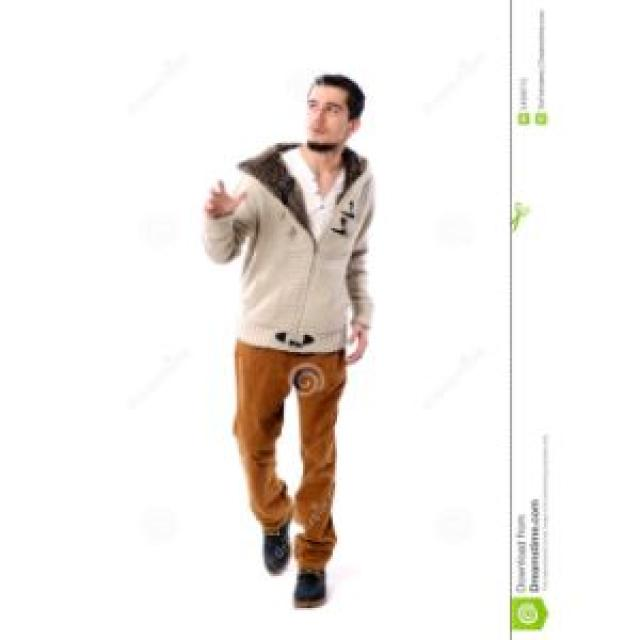nonfall: (204, 77, 396, 610)
